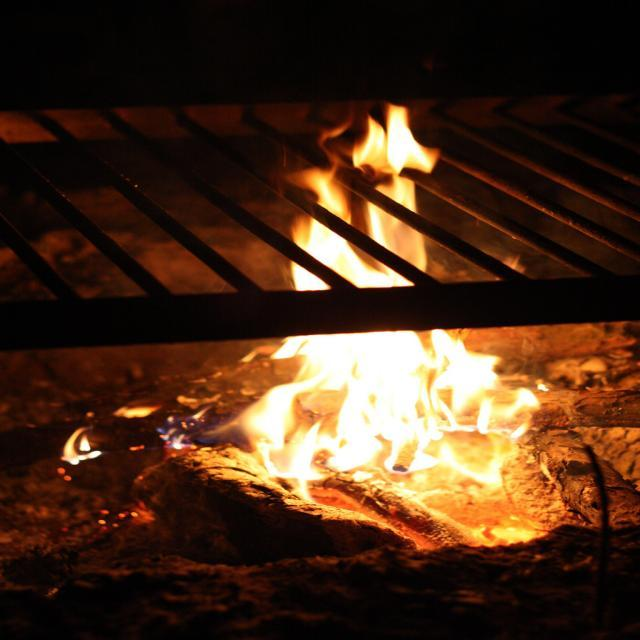Fire: (283, 334, 518, 480)
